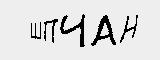А: (88, 14, 118, 49)
Н: (120, 13, 140, 43)
П: (41, 17, 59, 46)
Ч: (59, 13, 87, 49)
Ш: (27, 17, 44, 42)
